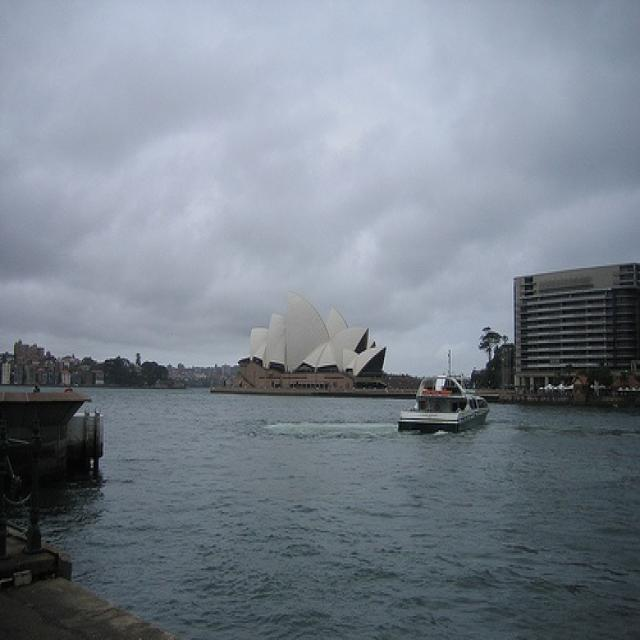boat: (396, 374, 494, 433)
